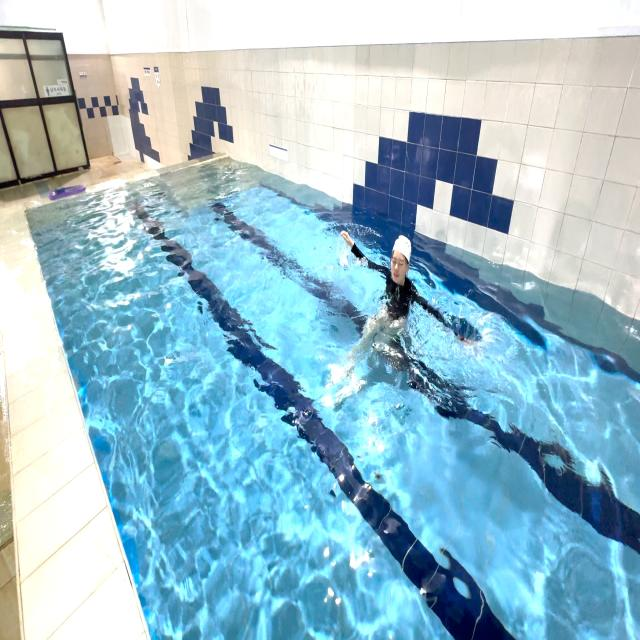Swimming: (323, 225, 476, 402)
